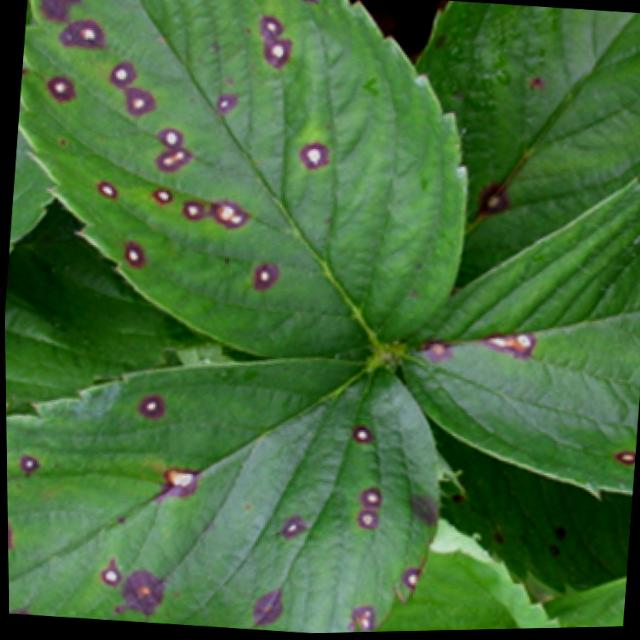Leaf Spot: (16, 0, 467, 363), (5, 359, 437, 635), (391, 175, 640, 504), (413, 2, 640, 292), (426, 417, 631, 599)
